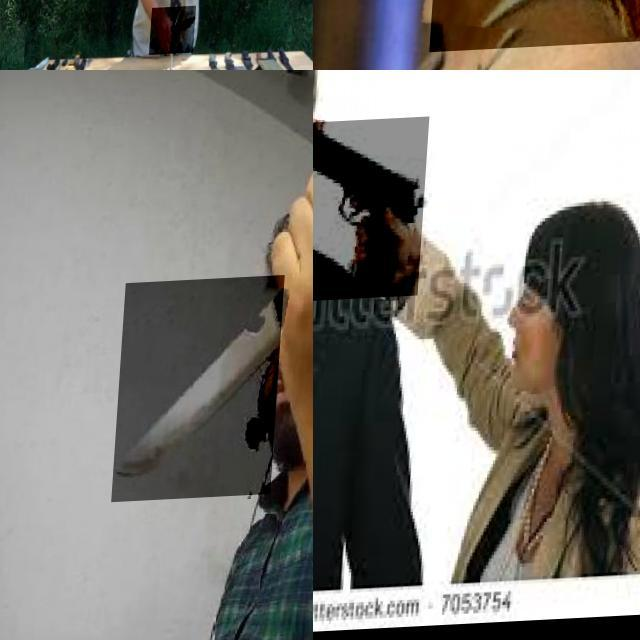-: (118, 280, 288, 504), (436, 0, 640, 70), (153, 11, 200, 60), (0, 25, 22, 70)
gun-knife-thesis - v11 Yolov5 augmented: (313, 119, 431, 305)
